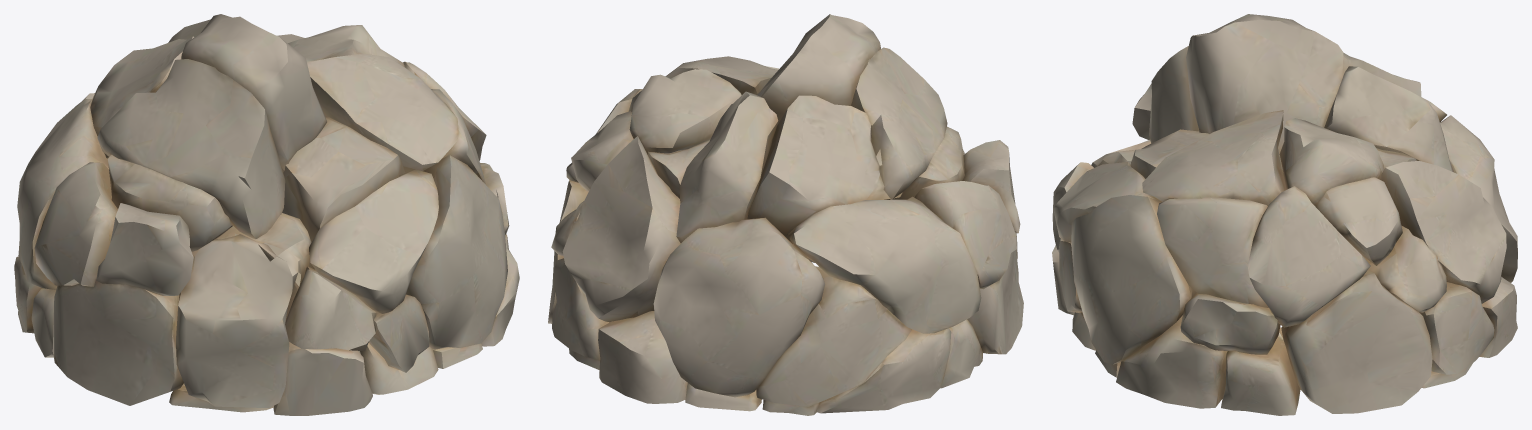
The model's file is resource_limestone_0.glb.
3 renders of one model, left to right at view 1: azimuth 30°, elevation 25°; view 2: azimuth 150°, elevation 25°; view 3: azimuth 270°, elevation 25°, orthographic. The views are drawn at different scales.
Parts seen in each view (by area): view 1: MeshyGear_resource_limestone; view 2: MeshyGear_resource_limestone; view 3: MeshyGear_resource_limestone.
Part boxes in pixels (left/top/right/bottom): MeshyGear_resource_limestone: left=14, top=14, right=519, bottom=415; MeshyGear_resource_limestone: left=548, top=14, right=1023, bottom=415; MeshyGear_resource_limestone: left=1052, top=14, right=1517, bottom=415.
Size of what is drawn, in the model's own units: 2.2 by 1.52 by 2.2.
Materials: 1 (1 with a texture image).
